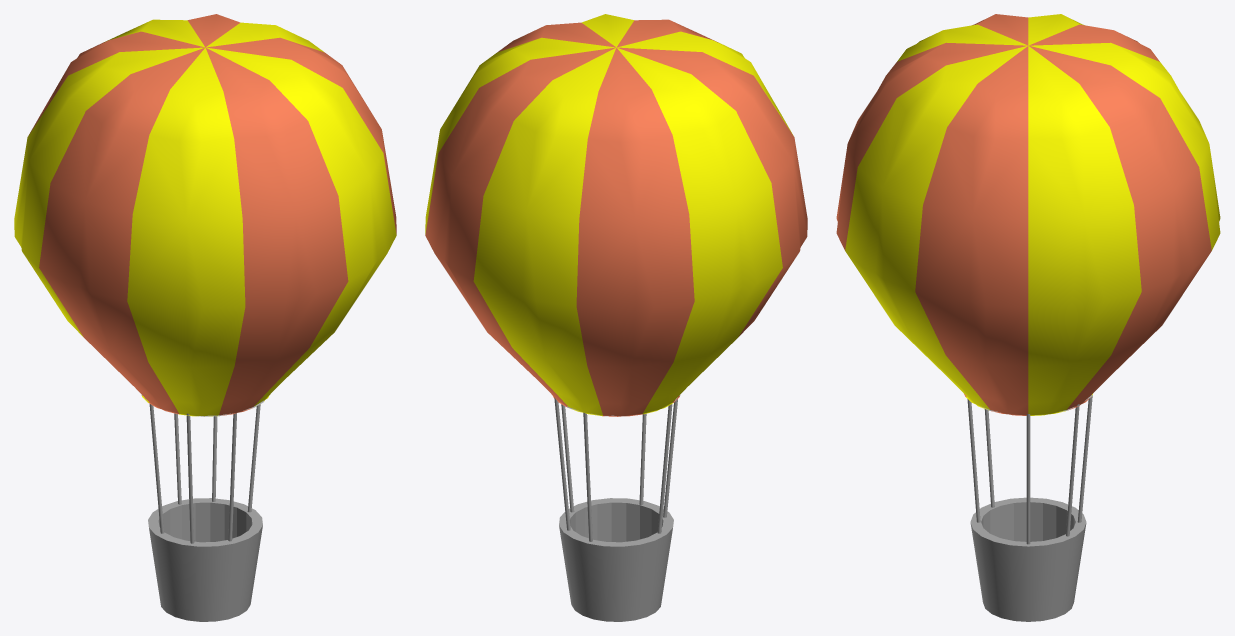
Rendered from hotairballoon.fbx.
The picture shows the model from 3 angles, left to right: view 1: azimuth 30°, elevation 25°; view 2: azimuth 150°, elevation 25°; view 3: azimuth 270°, elevation 25°; orthographic projection.
Visible parts, largest first — view 1: pCylinder9; view 2: pCylinder9; view 3: pCylinder9.
Part boxes in pixels (x1=…): pCylinder9: x1=14, y1=14, x2=396, y2=621; pCylinder9: x1=425, y1=14, x2=807, y2=621; pCylinder9: x1=836, y1=14, x2=1220, y2=621.
Bounding box in the file's own units: 97.73 × 156 × 97.33.
